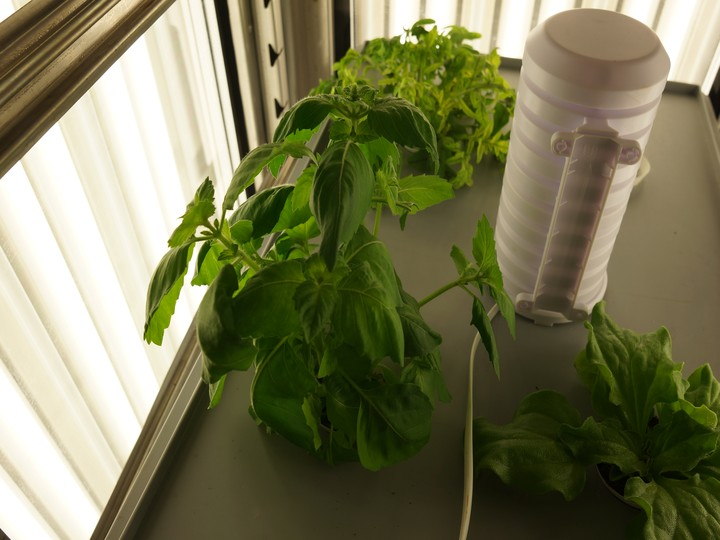basilic_blue_spice: (138, 82, 532, 479)
ficoide_glaciale: (468, 298, 720, 539)
roquette_sauvage_red_veined: (314, 17, 516, 165)
